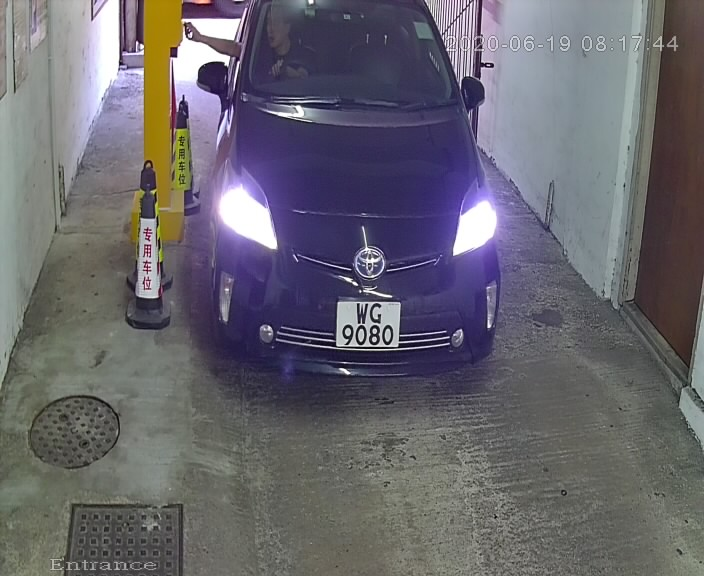bottom_left_lp: (335, 343, 339, 346)
bottom_left_radiator: (240, 83, 251, 96), (287, 247, 298, 256)
bottom_right_lp: (396, 344, 400, 347)
bottom_right_radiator: (451, 103, 468, 124), (431, 254, 444, 264)
brand: (352, 246, 386, 280)
left_headlight: (216, 159, 281, 251)
right_headlight: (450, 174, 496, 260)
top_left_lp: (335, 298, 343, 306)
top_left_radiator: (282, 200, 294, 216)
top_left_windshield: (246, 2, 260, 14)
top_right_lp: (396, 299, 403, 307)
top_right_radiator: (447, 196, 461, 207), (422, 16, 435, 27)
